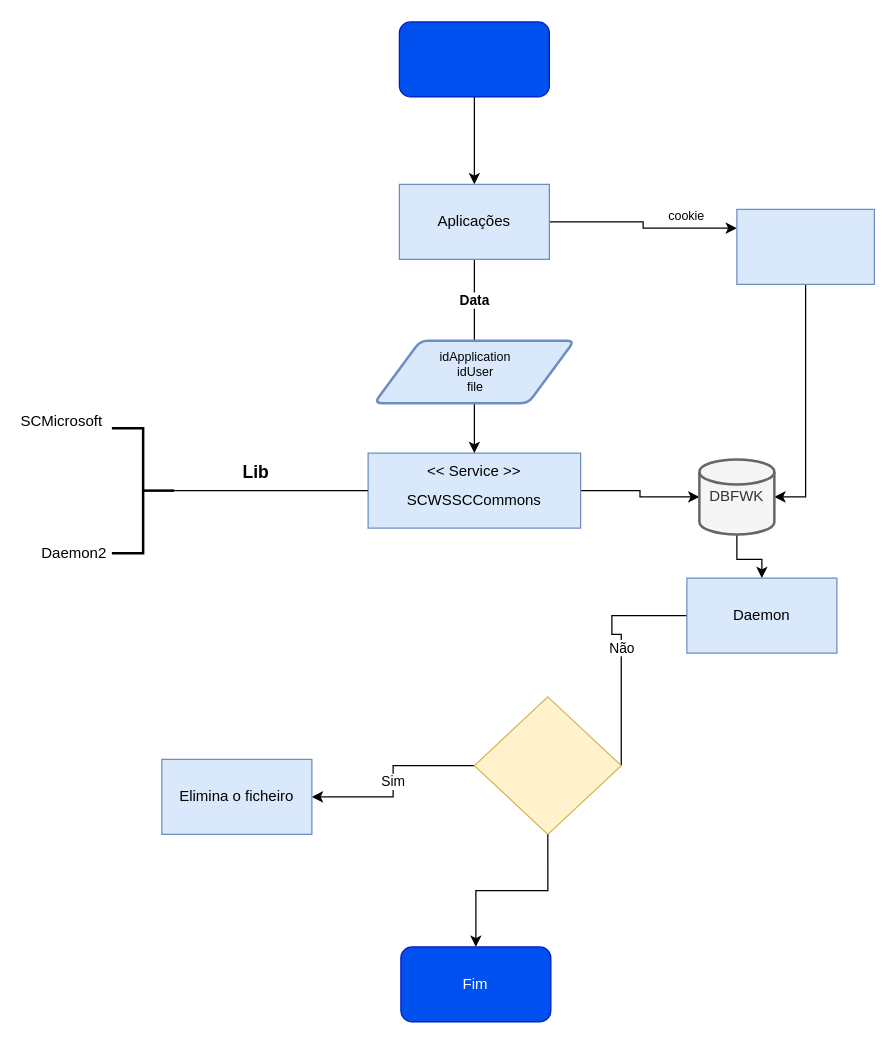
Image size: 896x1044. Some labels were removed from this diagram. The shapes that lost their labels are listed below. From the top down, each one's centre as x and y in pixels, then its label:
At [473,59]: "Início".
At [805,246]: "Página (FE) (frameworkReport)".
At [547,765]: "Ficheiro tem mais de x dias?".
